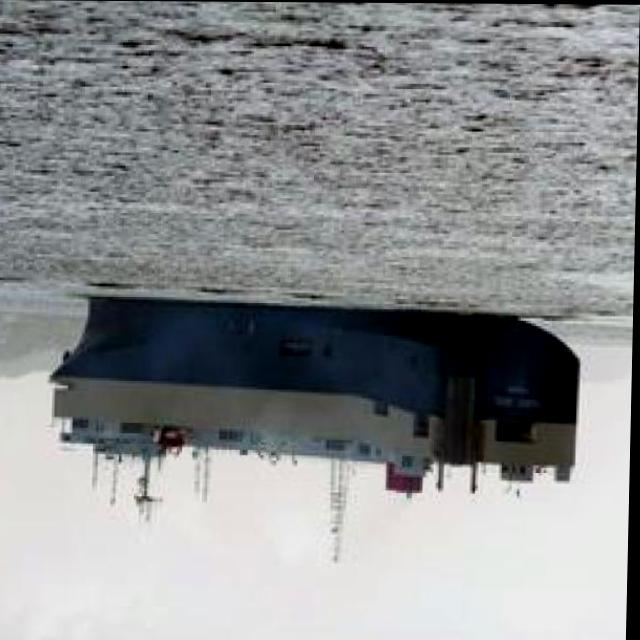ship2: (49, 295, 581, 563)
